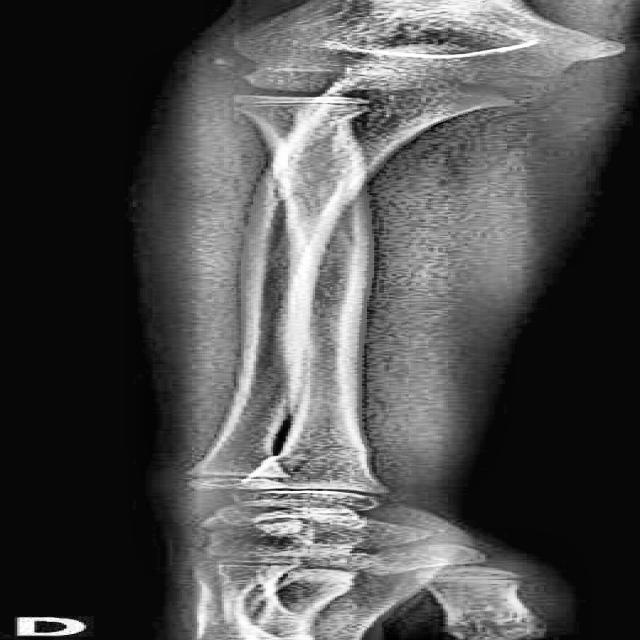fracture: (293, 455, 315, 472)
